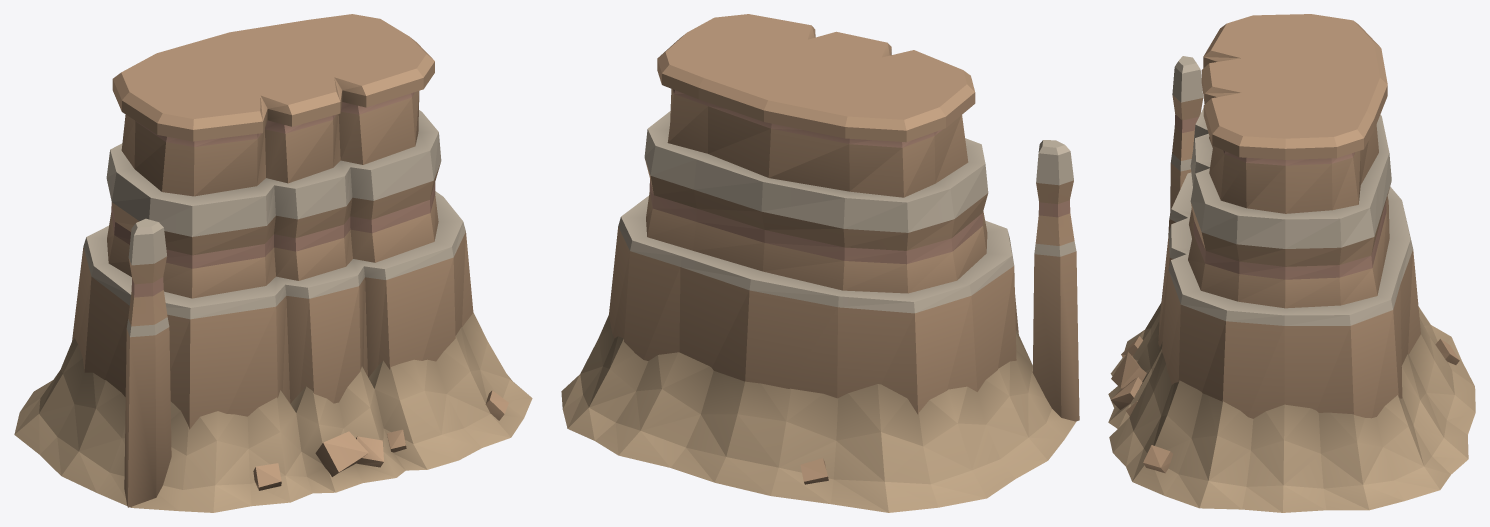
Rendered from mesa.glb.
3 views of the same model, side by side, from view 1: azimuth 30°, elevation 25°; view 2: azimuth 150°, elevation 25°; view 3: azimuth 270°, elevation 25° (orthographic). The views are drawn at different scales.
Visible parts, largest first — view 1: mesa.001; view 2: mesa.001; view 3: mesa.001.
Boxes of the visible parts, bbox=[...] form: mesa.001: bbox=[14, 14, 532, 512]; mesa.001: bbox=[561, 14, 1079, 512]; mesa.001: bbox=[1108, 14, 1475, 512].
Size of the model in its own units: 31.99 by 24 by 23.99.
